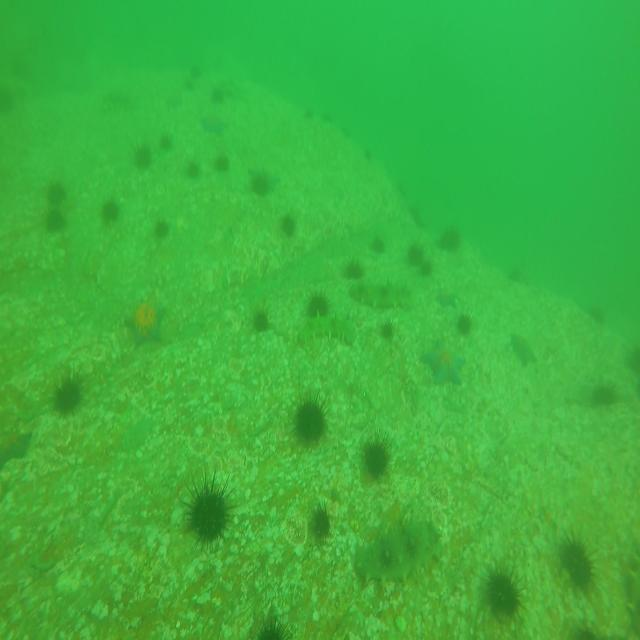echinus: (183, 466, 231, 546), (288, 385, 329, 447), (554, 529, 592, 592), (482, 563, 519, 620), (359, 428, 393, 484), (49, 366, 87, 414), (255, 612, 291, 640), (250, 161, 276, 199), (309, 498, 331, 540), (595, 374, 617, 408), (438, 222, 460, 254), (307, 291, 329, 319), (280, 211, 298, 244), (46, 204, 66, 233), (343, 255, 363, 283), (134, 145, 153, 174), (210, 151, 231, 177), (252, 302, 270, 332), (99, 198, 119, 225), (43, 179, 63, 204), (151, 214, 170, 239), (457, 306, 473, 335), (406, 239, 425, 263), (181, 151, 198, 177), (381, 316, 399, 337), (371, 231, 385, 256), (156, 130, 173, 150), (210, 82, 226, 102), (417, 256, 433, 276)
holothurian: (352, 517, 444, 585), (290, 316, 356, 344), (357, 282, 412, 312)
starfish: (123, 287, 166, 346), (416, 335, 466, 385), (0, 408, 35, 471)
